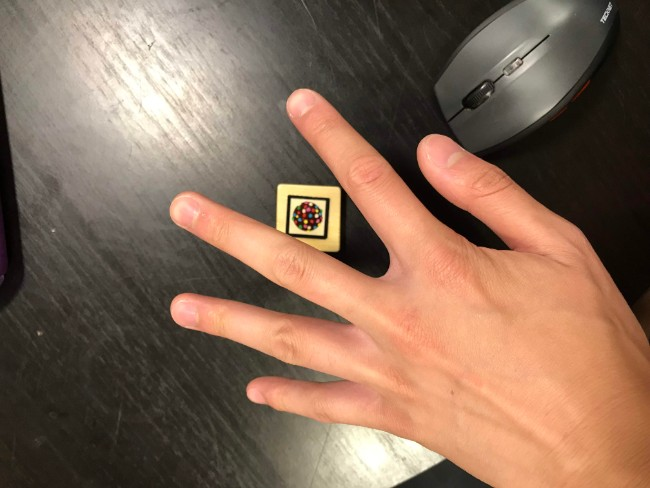cookie: (277, 177, 342, 253)
